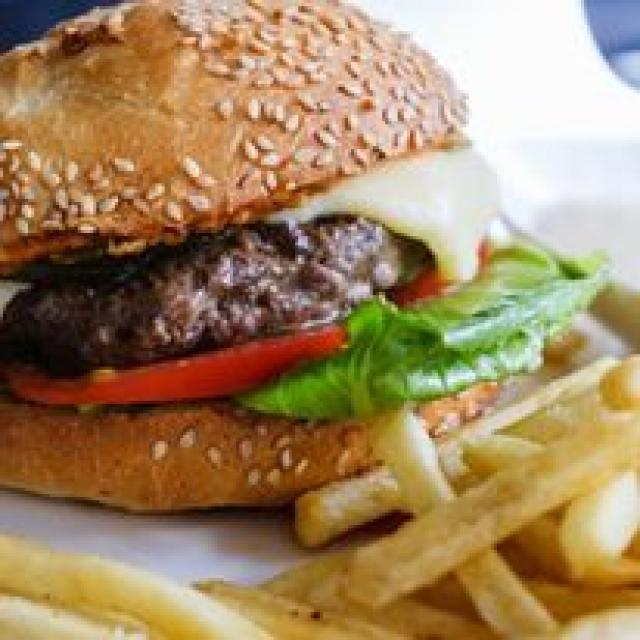Burger: (0, 0, 503, 469)
French Fries: (0, 397, 640, 640)
